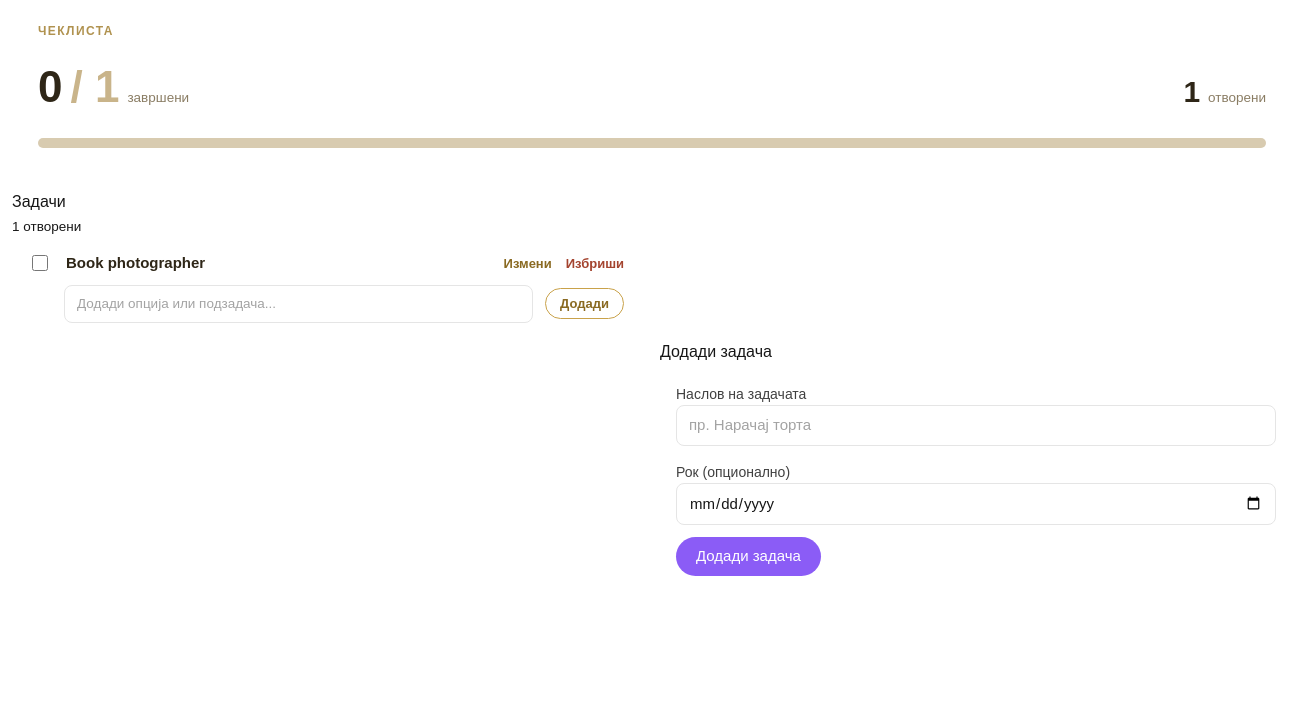
Scenario: ChecklistClient › edits a task's title and due date
This screenshot has width=1292, height=720.
Click the button with aria-label "измени book photographer" at (528,263), box [504,254,552,273]
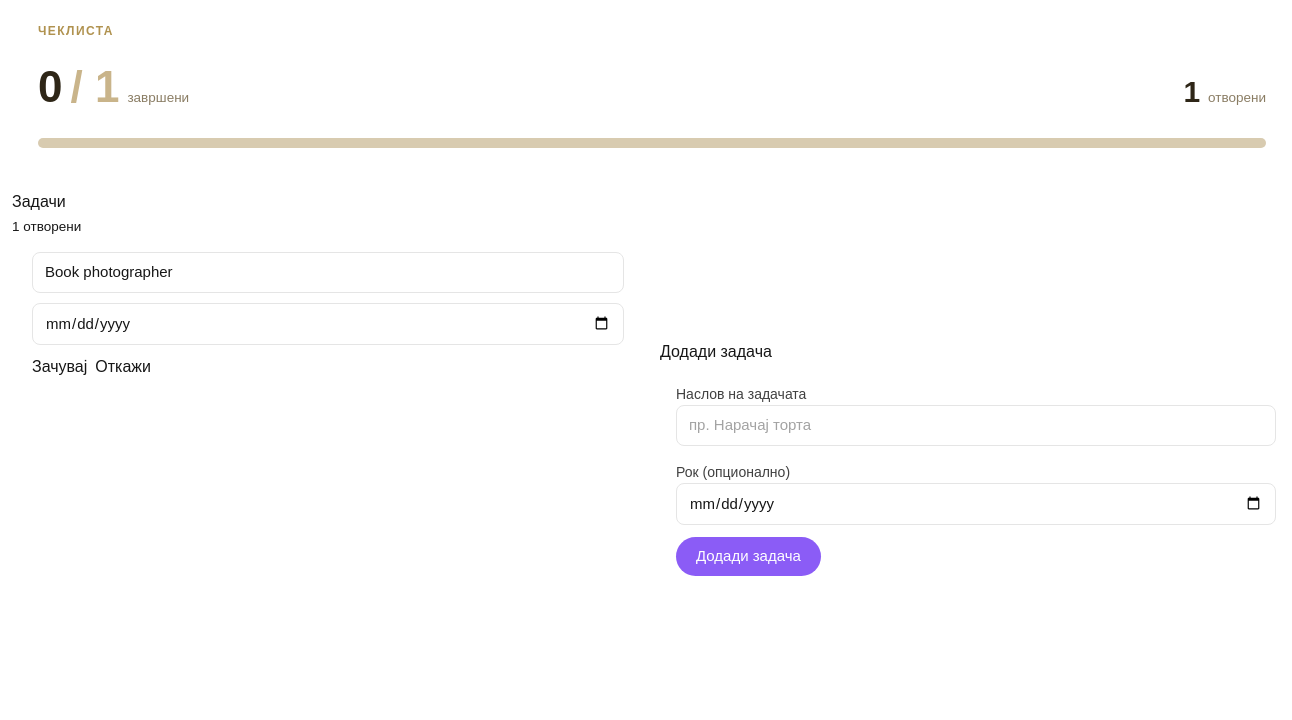
Replace the text in the field showing "Book photographer" with "Book photographer (booked!)" at (328,272), box [32,252,624,292]
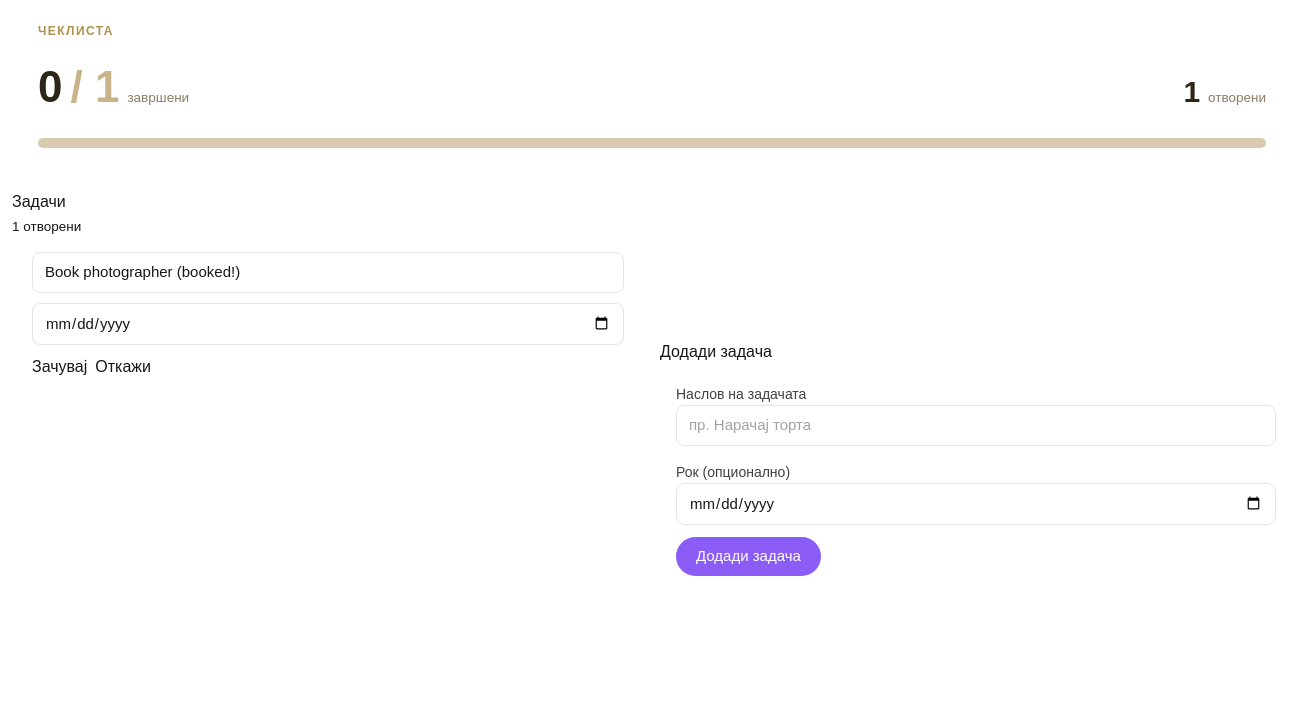
Click the button "Зачувај" at (60,367), box [32,355,87,379]
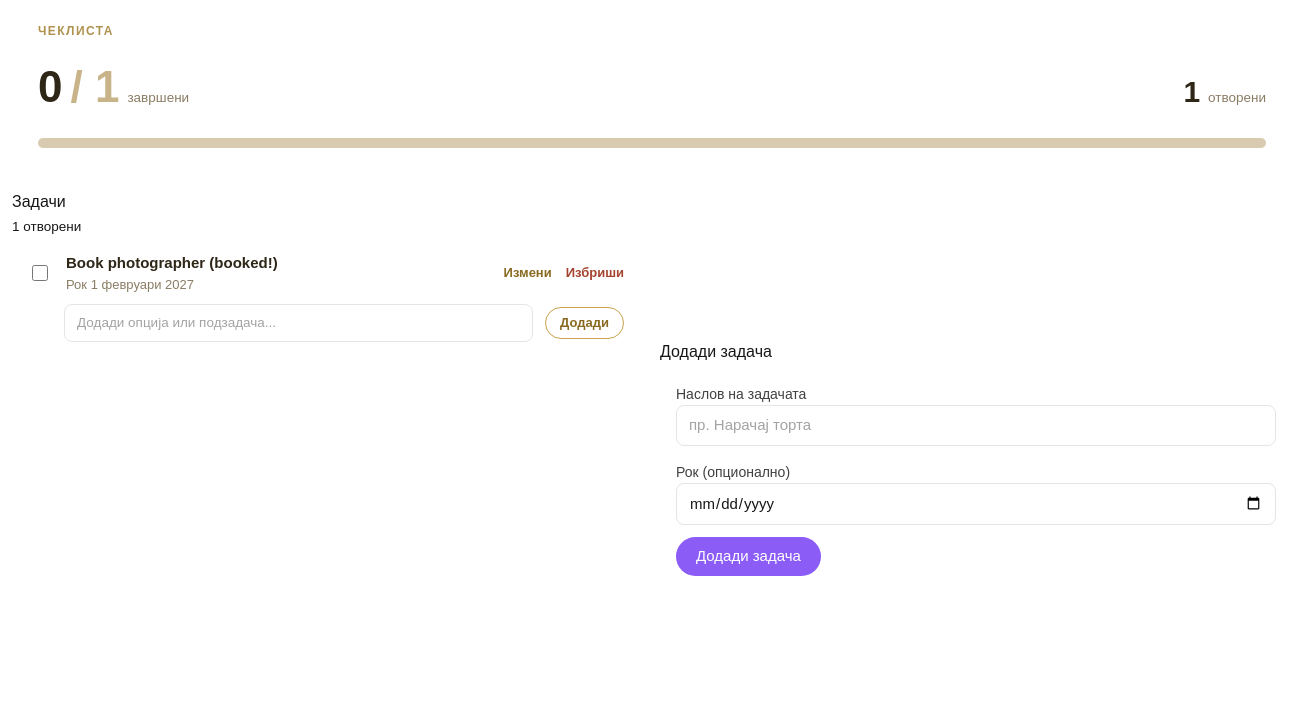
Check: the text "Book photographer (booked!)" is shown, box [66,252,278,274]
